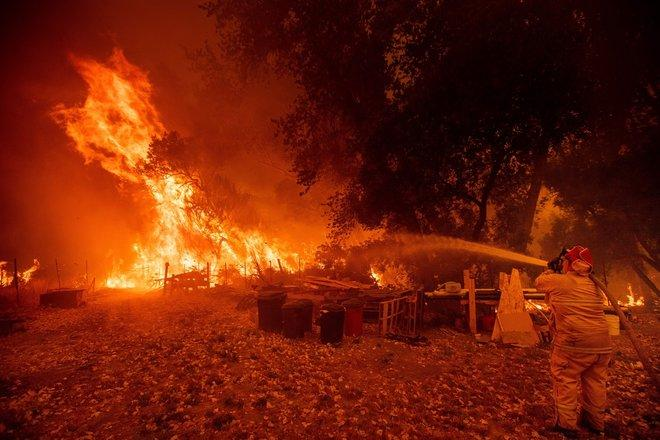Fire: (41, 28, 271, 305)
